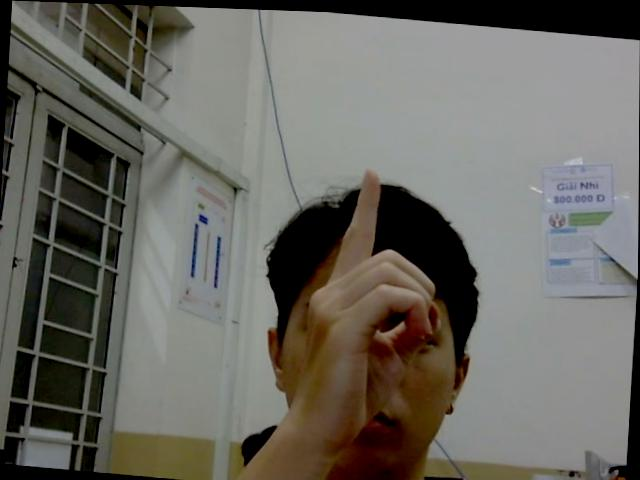D: (291, 161, 448, 445)
